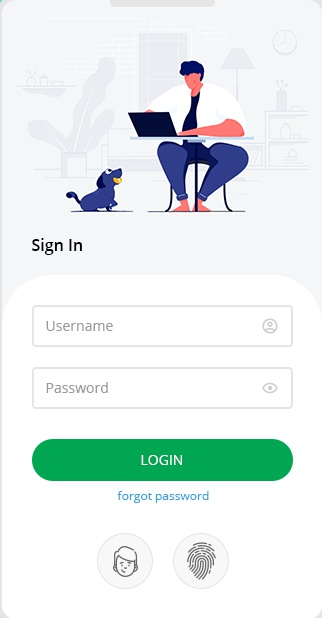EditText: (32, 306, 293, 348), (32, 368, 293, 410)
Icon: (262, 319, 278, 335), (262, 383, 278, 394)
Image: (16, 17, 309, 214), (174, 533, 230, 589), (98, 533, 154, 589)
Text: (118, 491, 210, 504), (33, 238, 83, 256), (47, 382, 109, 394), (47, 322, 114, 332)
TextButton: (32, 439, 293, 481)
